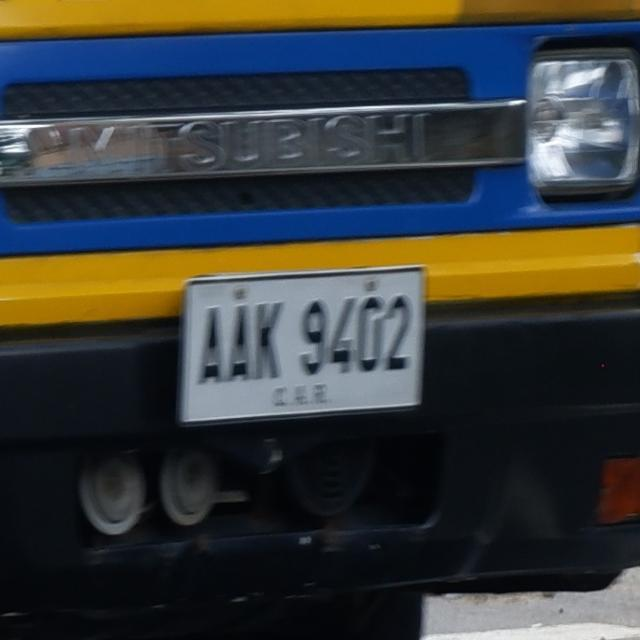LicensePlate: (158, 256, 446, 422)
